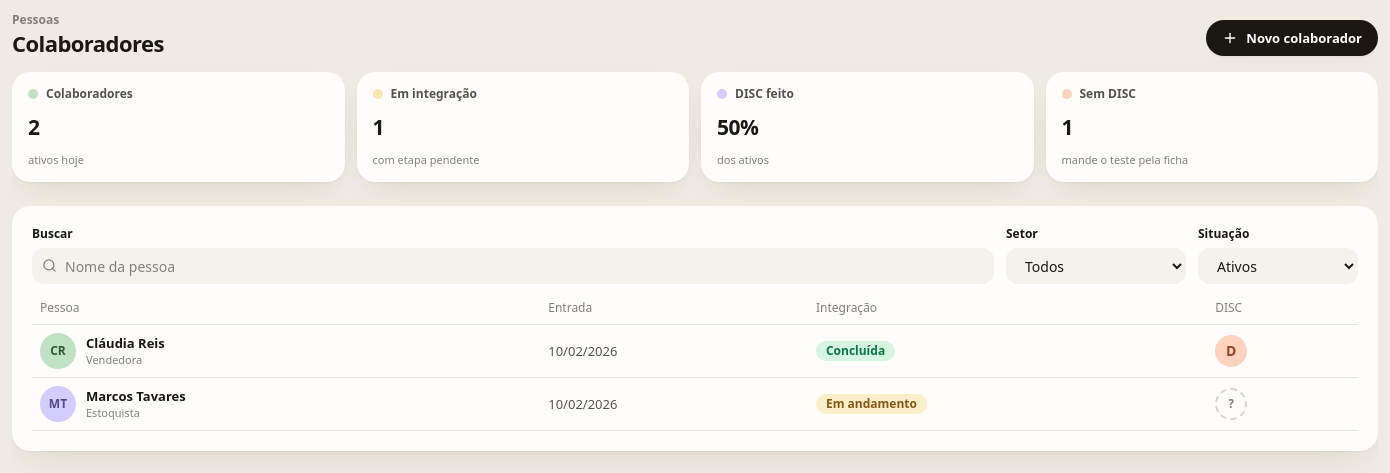
Test: filtro de situação mostra os desligados
The width and height of the screenshot is (1390, 473).
Select "Desligados" in the dropdown labelled "Situação" at (1278, 266), box [1198,248,1358,284]
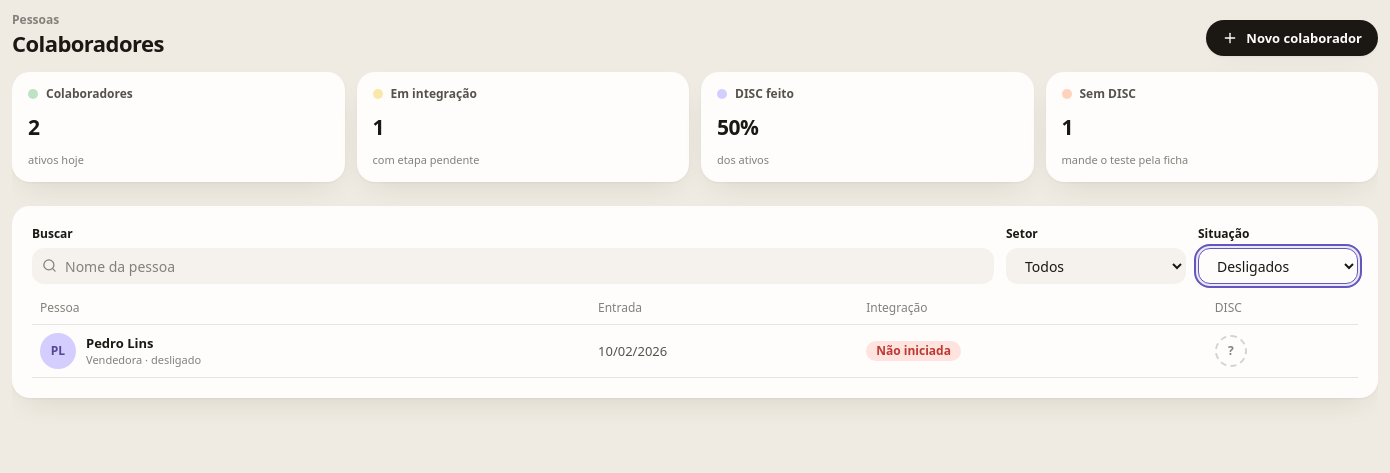
Check: the link "Pedro Lins" is shown, box [86,334,154,352]
